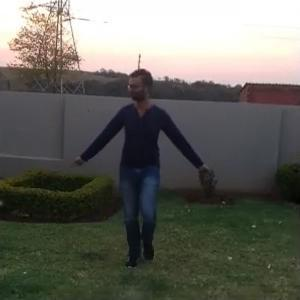land: (69, 68, 216, 273)
